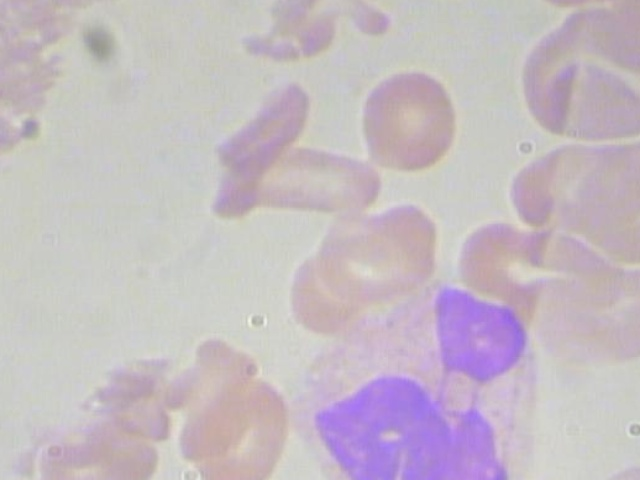WBC: (273, 273, 564, 480)
